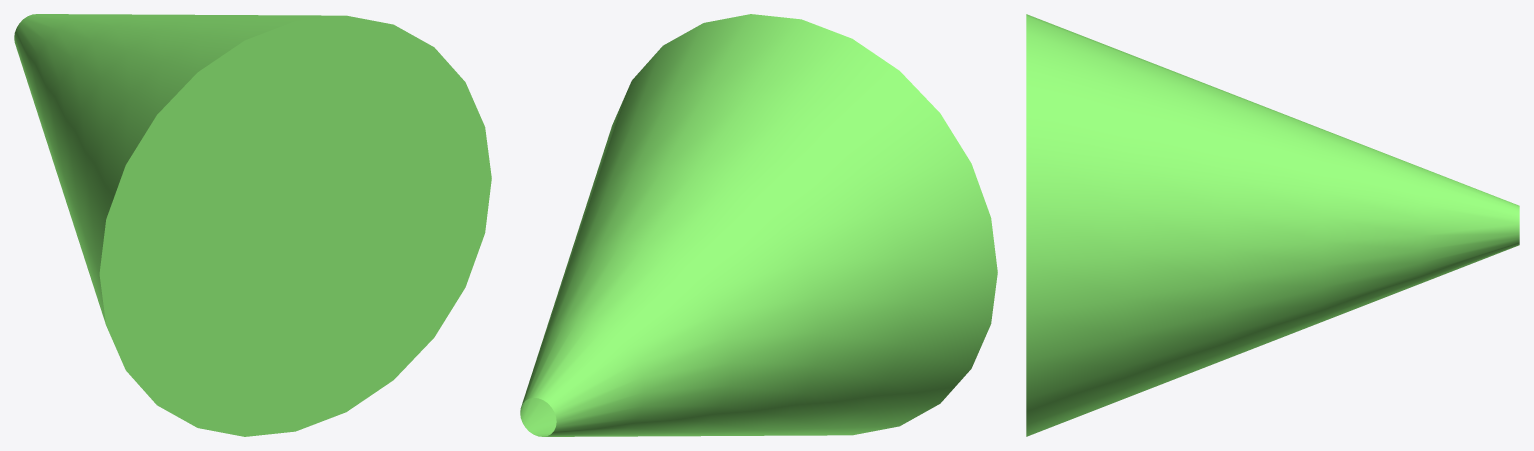
The model's file is Laser 1.fbx.
3 views of the same model, side by side, from view 1: azimuth 30°, elevation 25°; view 2: azimuth 150°, elevation 25°; view 3: azimuth 270°, elevation 25° (orthographic). The views are drawn at different scales.
Visible parts, largest first — view 1: Laser; view 2: Laser; view 3: Laser.
Boxes of the visible parts, x1,y1,x2,y2 form: Laser: (14, 14, 491, 436); Laser: (520, 14, 997, 436); Laser: (1026, 14, 1519, 436).
Bounding box in the file's own units: 145 × 145 × 168.
